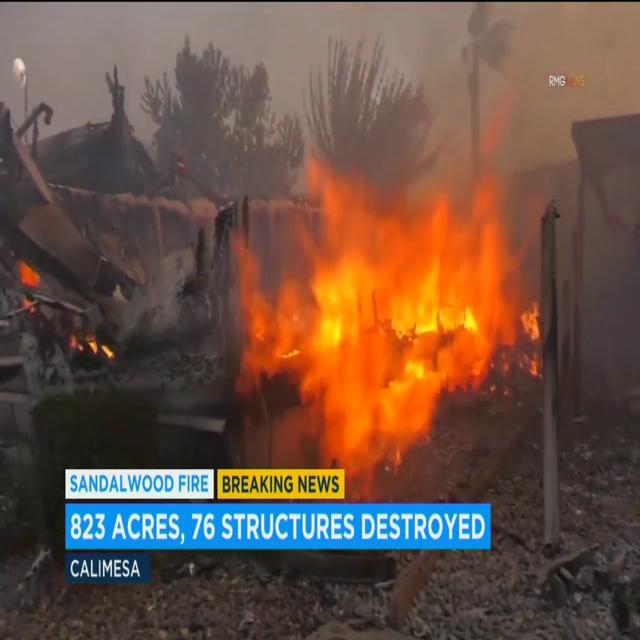Fire: (230, 155, 542, 465)
Smoke: (338, 7, 640, 221)
